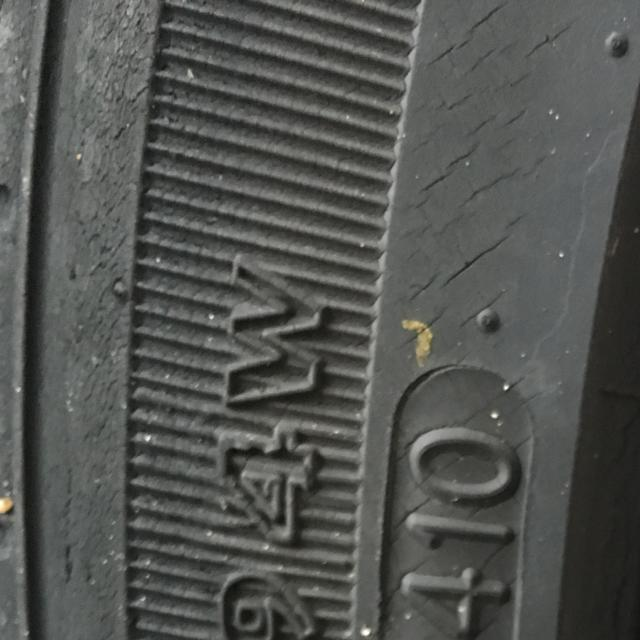Cracks: (366, 0, 613, 640), (48, 0, 154, 636)
